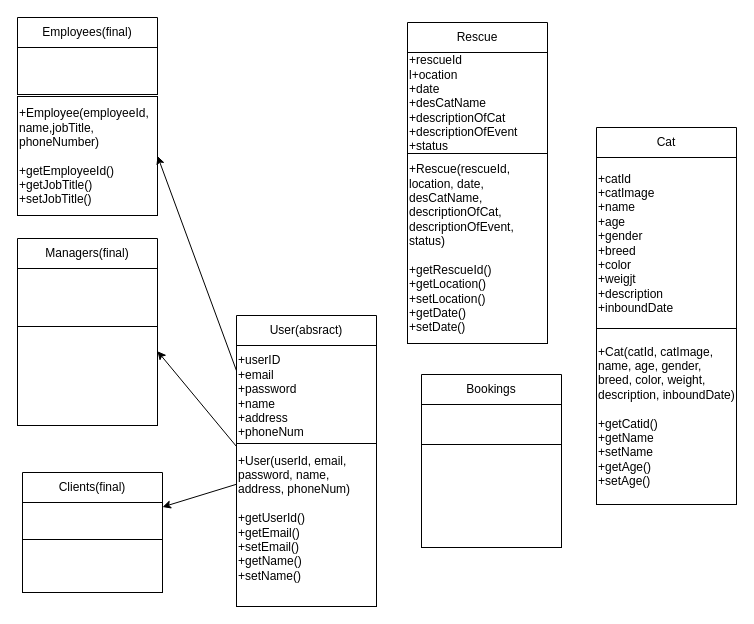
This 754x624 diagram has some shape labels left out. Each missing label, with the centre of its shape:
+Booking(bookingId, time) +getBookingId() +getTIme() +setTIme(): (491,496)
+bookingID +time: (491,424)
+consumer(consumerId, ) +getconsumerid(): (92,565)
+consumerId: (92,522)
+employeeId +j obTitle: (87,70)
+Manager(managerId ,jobTitle, ) +getManagerId() +getJobTitle() +setJobTitle(): (87,376)
+managerid +j obTitle: (87,297)
